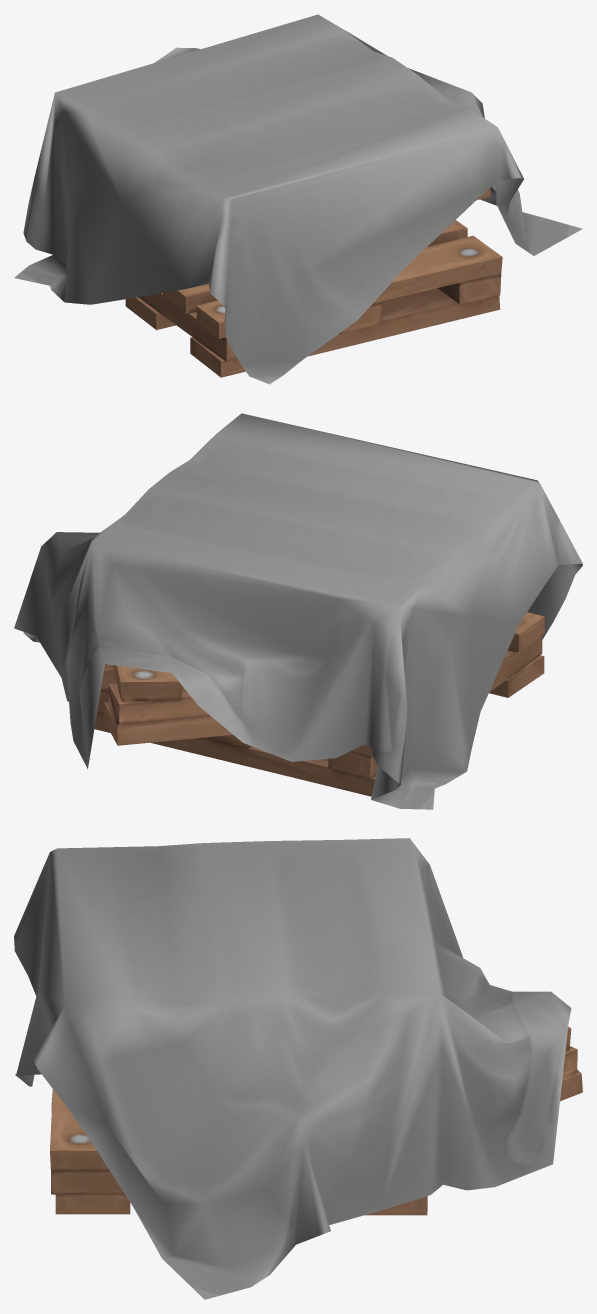
The model's file is Pfb_Box_GRP__9.fbx.
3 renders of one model, top to bottom at view 1: azimuth 30°, elevation 25°; view 2: azimuth 150°, elevation 25°; view 3: azimuth 270°, elevation 25°, orthographic. The views are drawn at different scales.
Visible parts, largest first — view 1: MAT_Canvas_02_Smooth 1, Mat_WoodPallet_01_01; view 2: MAT_Canvas_02_Smooth 1, Mat_WoodPallet_01_01; view 3: MAT_Canvas_02_Smooth 1, Mat_WoodPallet_01_01.
Boxes of the visible parts, x1,y1,x2,y2 form: MAT_Canvas_02_Smooth 1: [14, 14, 582, 384]; Mat_WoodPallet_01_01: [125, 187, 502, 377]; MAT_Canvas_02_Smooth 1: [14, 413, 582, 809]; Mat_WoodPallet_01_01: [94, 612, 544, 796]; MAT_Canvas_02_Smooth 1: [14, 838, 571, 1299]; Mat_WoodPallet_01_01: [50, 1026, 582, 1215].
Size of the model in its own units: 3.12 by 1.14 by 2.75.
Materials: 2 (2 with a texture image).
